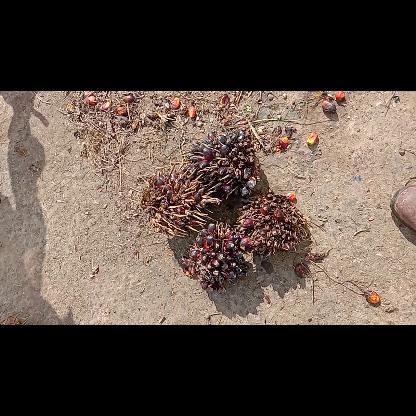TBS abnormal: (141, 165, 219, 237), (180, 130, 260, 198), (180, 222, 248, 290), (235, 193, 307, 255)
